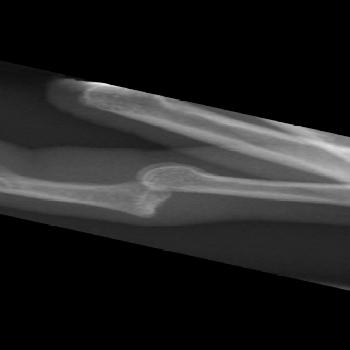Fracture: (128, 153, 191, 226)
